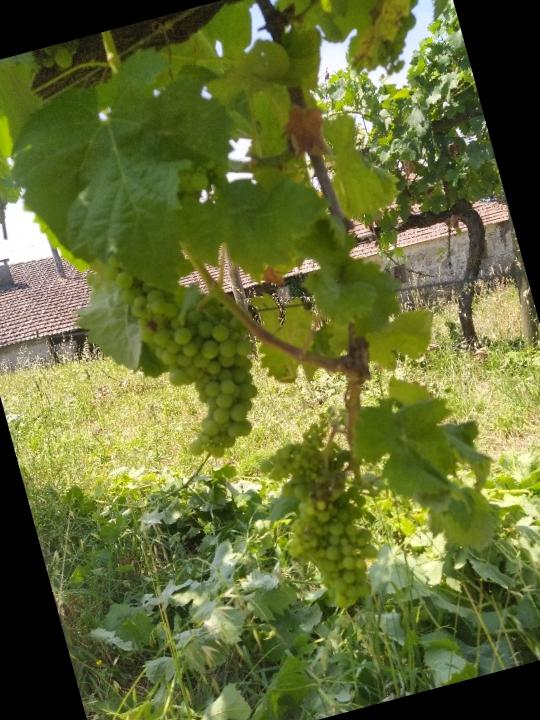grape: (124, 262, 280, 471), (270, 473, 398, 623)
